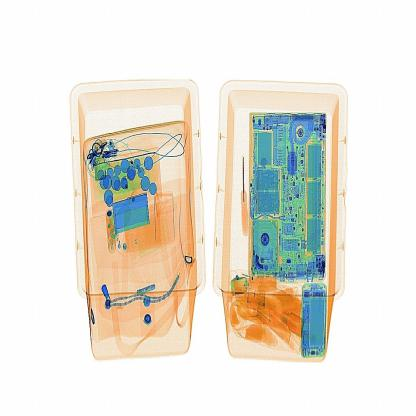wrench: (235, 148, 256, 241)
